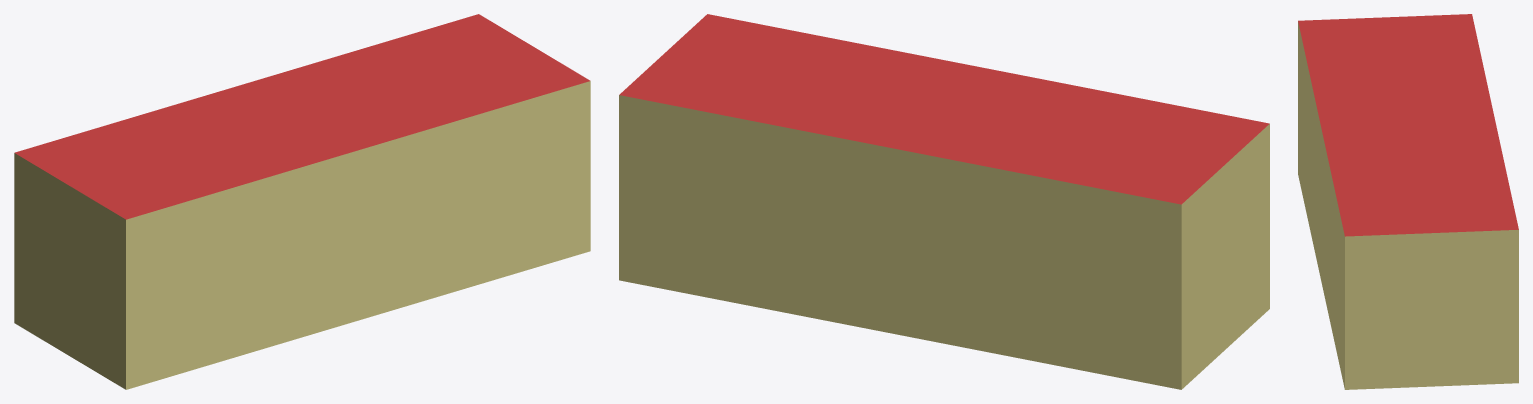
3 views of the same model, side by side, from view 1: azimuth 30°, elevation 25°; view 2: azimuth 150°, elevation 25°; view 3: azimuth 270°, elevation 25° (orthographic). The views are drawn at different scales.
Bounding box in the file's own units: 18.62 × 7.81 × 5.99.
